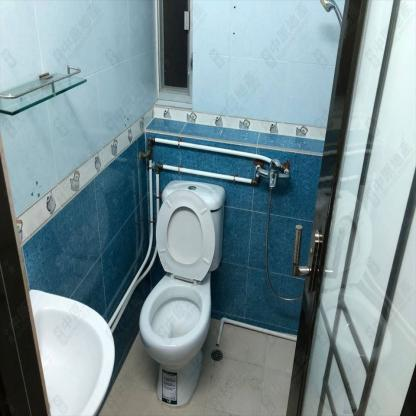Toilet: (136, 177, 226, 407)
Toilet Sink: (29, 288, 115, 415)
